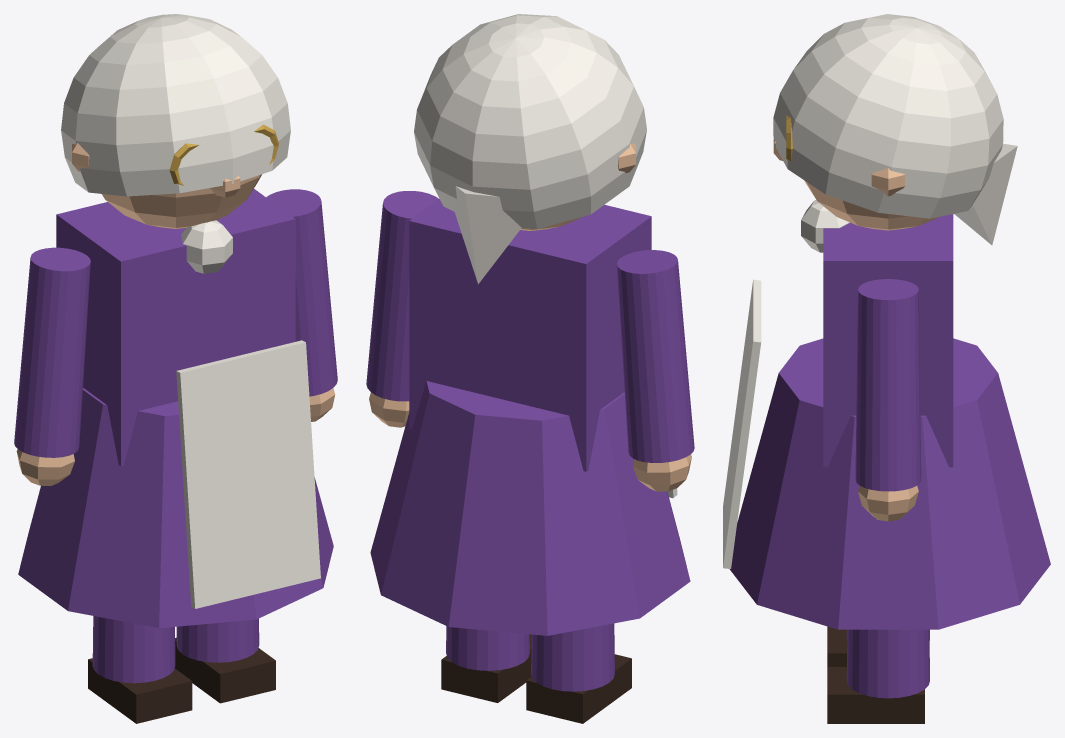
Rendered from NYURA.glb.
The picture shows the model from 3 angles, left to right: view 1: azimuth 30°, elevation 25°; view 2: azimuth 150°, elevation 25°; view 3: azimuth 270°, elevation 25°; orthographic projection.
Parts seen in each view (by area): view 1: nyura, head, torso, arm_left, leg_left, arm_right, leg_right; view 2: nyura, head, torso, arm_left, arm_right, leg_left, leg_right; view 3: nyura, head, torso, arm_right, leg_right, leg_left.
Boxes of the visible parts, box(x1,y1,x2,y2) form: nyura: box(18, 340, 333, 628); head: box(61, 14, 290, 273); torso: box(56, 189, 295, 466); arm_left: box(14, 247, 90, 485); leg_left: box(88, 616, 192, 723); arm_right: box(266, 189, 337, 421); leg_right: box(175, 618, 275, 703); nyura: box(370, 381, 690, 635); head: box(414, 14, 646, 284); torso: box(409, 199, 651, 471); arm_left: box(617, 250, 694, 491); arm_right: box(366, 191, 438, 427); leg_left: box(526, 623, 631, 723); leg_right: box(441, 626, 531, 702); nyura: box(723, 279, 1050, 629); head: box(773, 14, 1017, 252); torso: box(823, 214, 953, 467); arm_right: box(855, 279, 921, 521); leg_right: box(827, 629, 929, 723); leg_left: box(827, 626, 929, 666).
Bounding box in the file's own units: 0.8113 × 1.62 × 0.7263.
